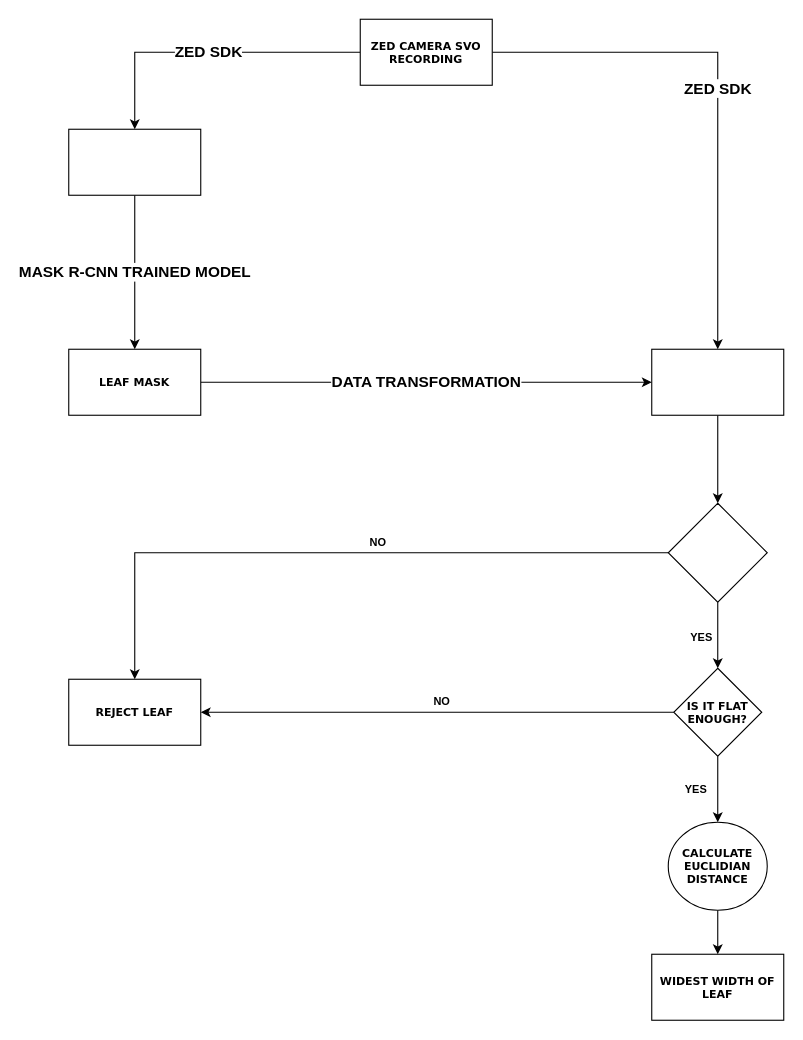
Some shapes in this 803 by 1040 pixel diagram are drawn without their labels. The centre of each missing label's shape, as x and y in pixels:
"2D IMAGE" goes at pixel 134 161.
"IS IT ONE LEAF?" goes at pixel 717 552.
"POINT CLOUD OF SEGMENTED AREA" goes at pixel 717 381.
